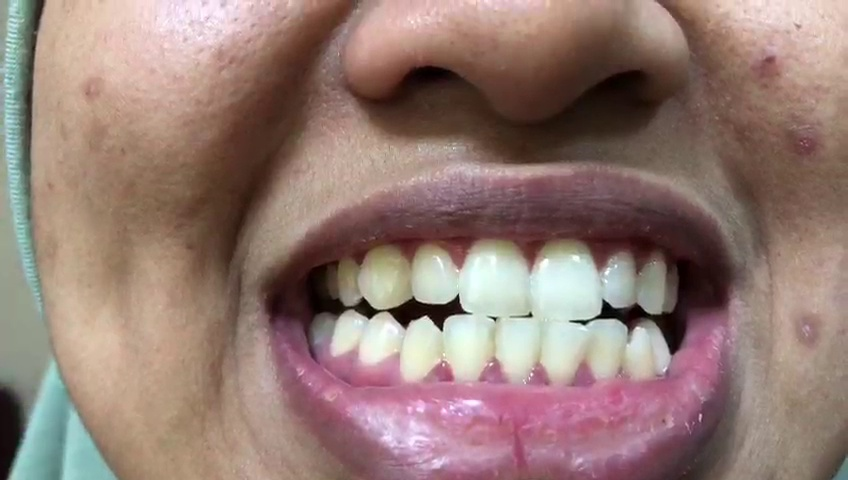1st Molar: (310, 310, 337, 349)
1st Premolar: (359, 311, 403, 368), (637, 317, 670, 376), (337, 253, 360, 305), (664, 258, 679, 313)
2nd Premolar: (331, 306, 365, 360)
Canine: (359, 242, 413, 308), (399, 316, 442, 384), (637, 251, 667, 317), (624, 324, 655, 387)
Central Incisor: (531, 234, 603, 319), (458, 236, 532, 317), (538, 316, 587, 388), (496, 317, 541, 387)
Lateral Incisor: (444, 312, 496, 383), (412, 236, 459, 304), (583, 319, 627, 384), (599, 247, 636, 308)
